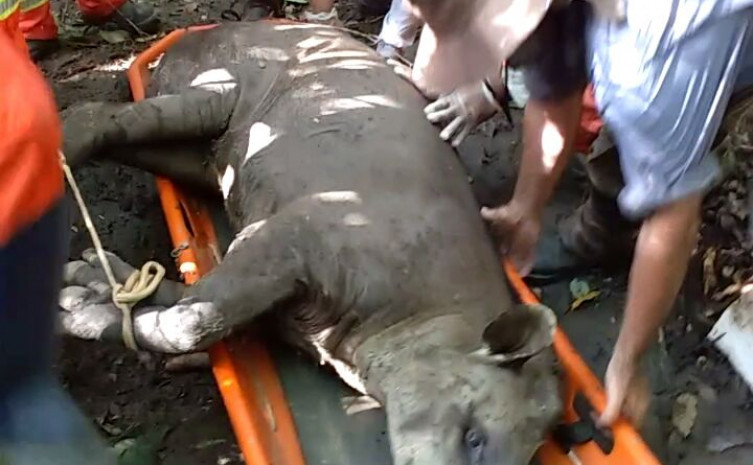Anta: (45, 15, 578, 457)
